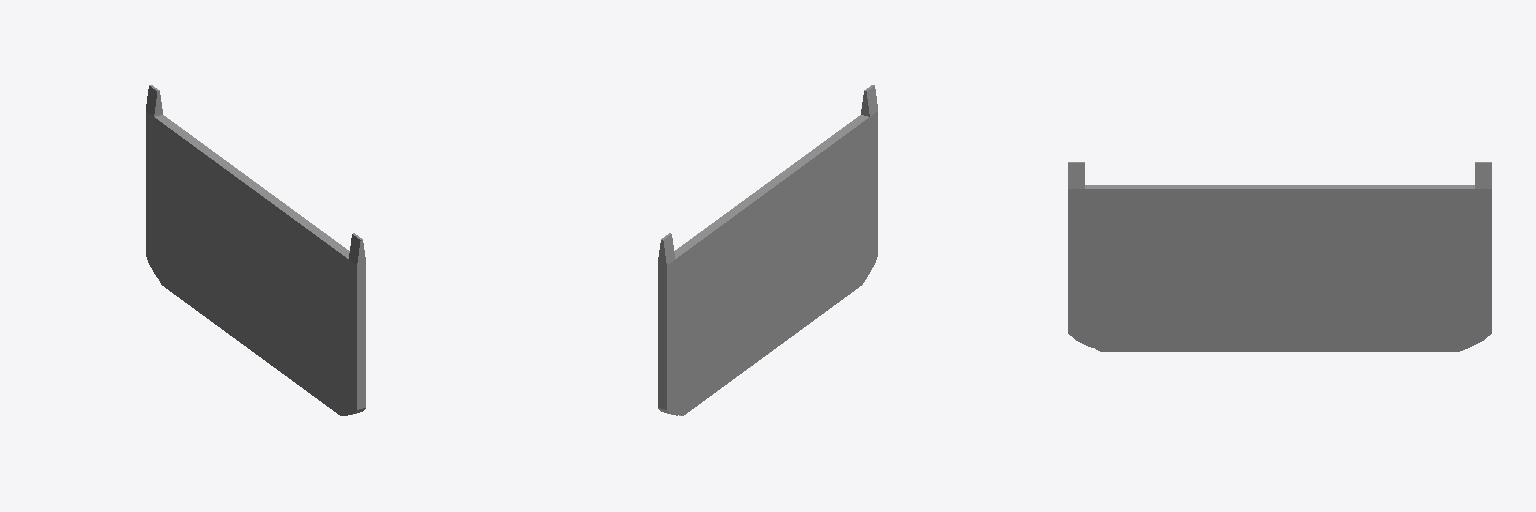
File: Sign1.obj
3 views of the same model, side by side, from view 1: azimuth 30°, elevation 25°; view 2: azimuth 150°, elevation 25°; view 3: azimuth 270°, elevation 25° (orthographic).
Visible parts, largest first — view 1: Sign1; view 2: Sign1; view 3: Sign1.
Part boxes in pixels (x1,y1,x2,y2): Sign1: (146,85,365,415); Sign1: (658,85,877,415); Sign1: (1068,162,1491,351).
Size of the model in its own units: 0.0272 by 0.5289 by 1.08.